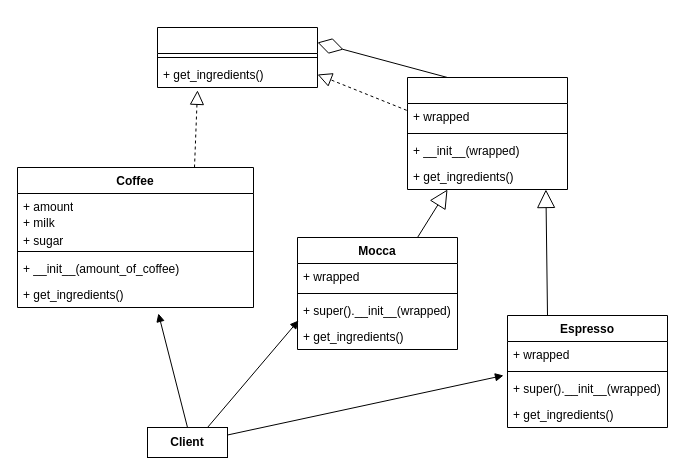
This 685x475 diagram has some shape labels left out. The box of each missing label's shape, as (x1, y1, x2, y2) in pixels:
CoffeeInterface: (156, 26, 318, 88)
DecoratorInterface: (406, 76, 568, 190)
